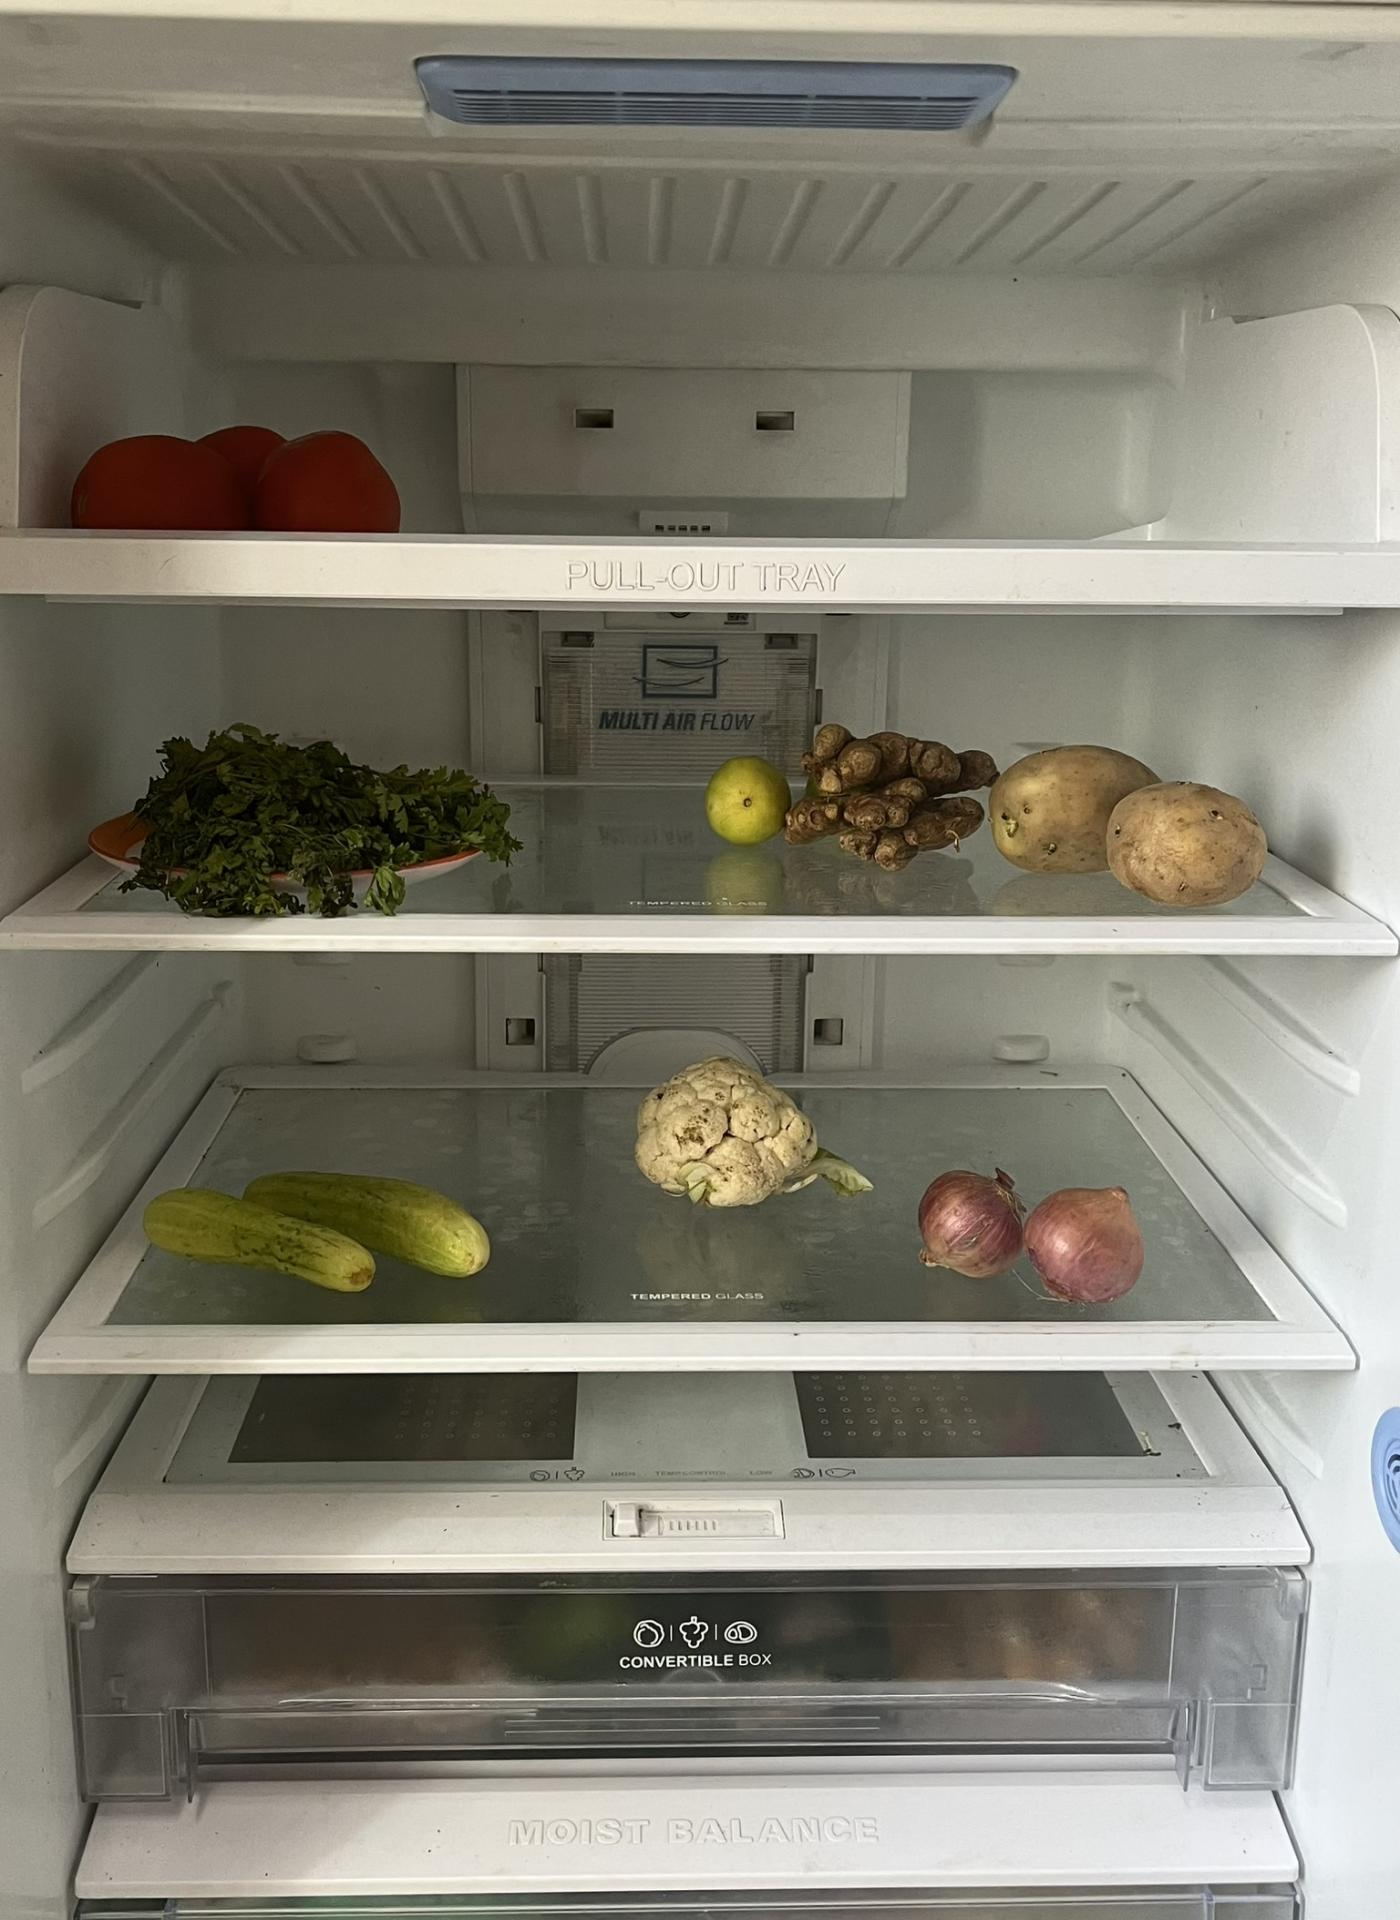cauliflower: (629, 1054, 845, 1210)
cucumber: (140, 1163, 498, 1288)
ginger: (802, 710, 997, 863)
lemon: (702, 744, 790, 850)
onion: (1027, 1169, 1142, 1303), (914, 1163, 1030, 1278)
potato: (134, 727, 541, 909), (987, 735, 1270, 900)
tomato: (85, 416, 407, 528)
